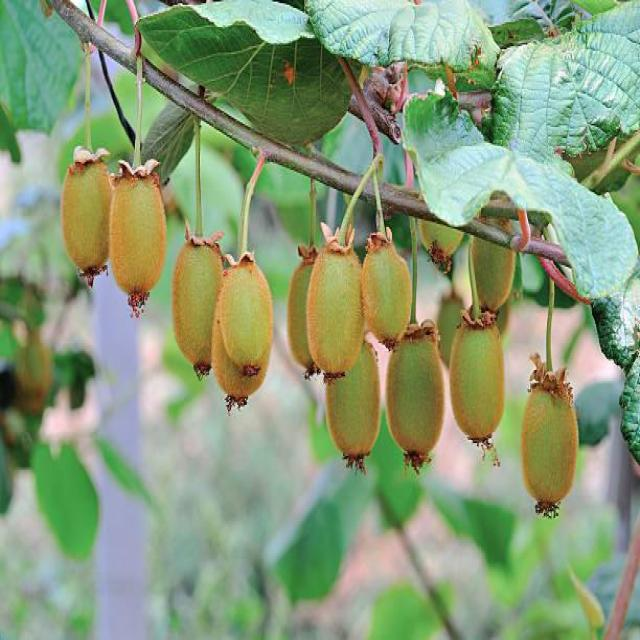kiwi: (518, 363, 586, 517), (302, 236, 367, 387), (108, 152, 169, 311), (450, 308, 510, 454), (387, 322, 446, 469), (163, 227, 220, 373), (324, 339, 387, 471), (60, 139, 115, 282), (218, 251, 277, 378), (362, 228, 413, 347), (471, 209, 521, 325), (286, 252, 323, 382), (212, 335, 271, 409), (415, 217, 468, 273)
